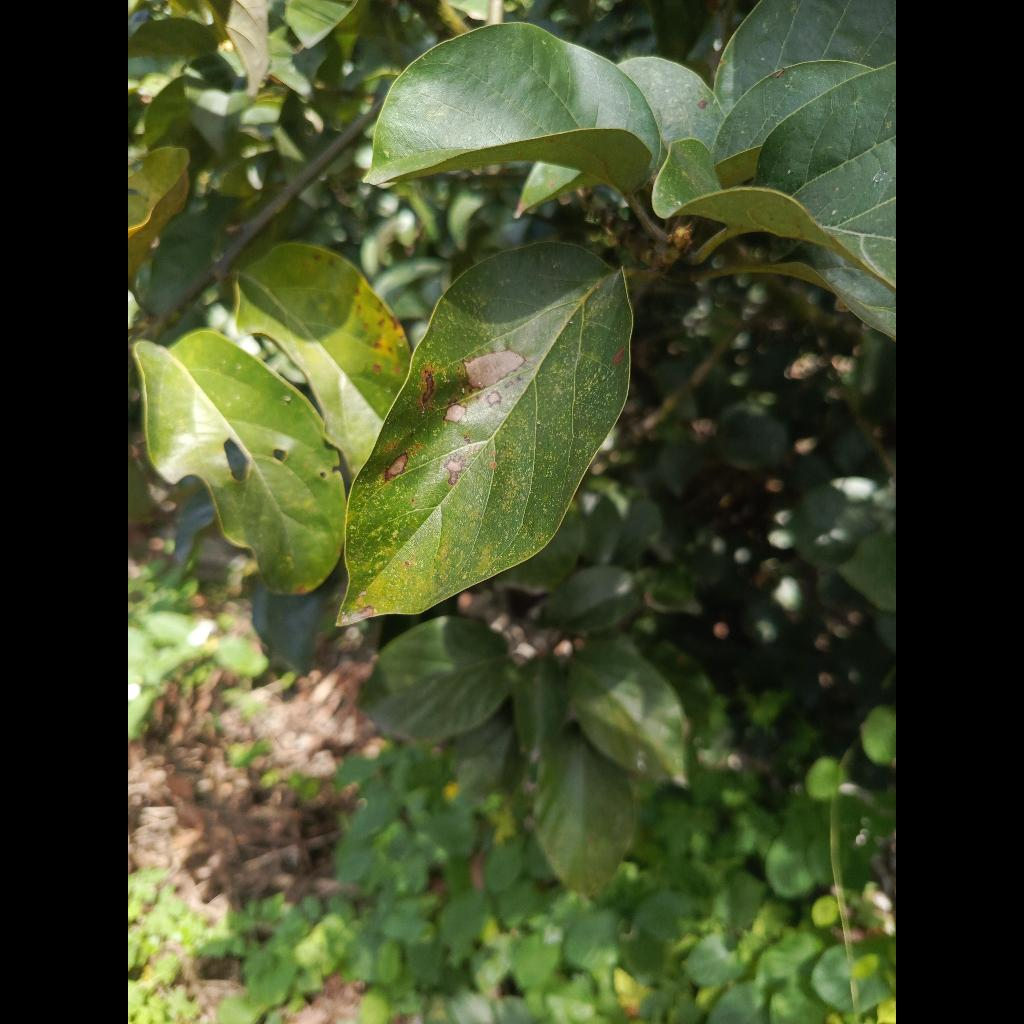Anthracnose: (339, 243, 632, 624)
